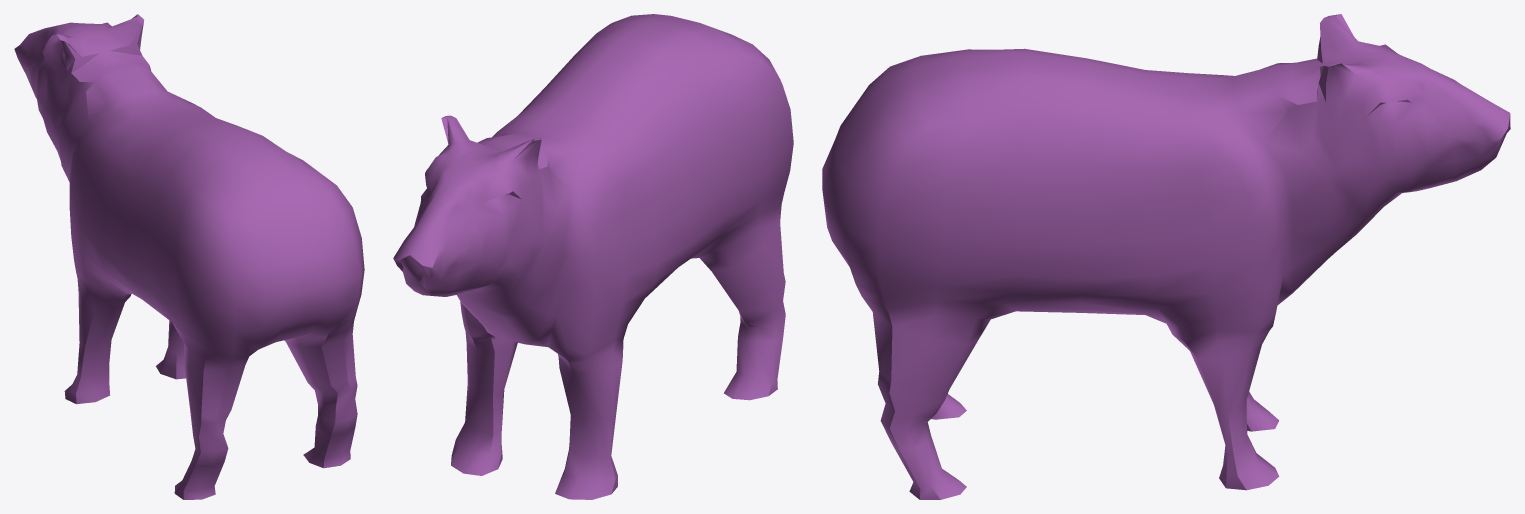
The picture shows the model from 3 angles, left to right: view 1: azimuth 30°, elevation 25°; view 2: azimuth 150°, elevation 25°; view 3: azimuth 270°, elevation 25°; orthographic projection. The views are drawn at different scales.
Visible parts, largest first — view 1: pCube1_blinn1_0; view 2: pCube1_blinn1_0; view 3: pCube1_blinn1_0.
Boxes of the visible parts, box(x1,y1,x2,y2) form: pCube1_blinn1_0: box(14, 14, 364, 499); pCube1_blinn1_0: box(393, 14, 793, 499); pCube1_blinn1_0: box(822, 14, 1510, 499).
Size of the model in its own units: 0.3497 by 0.6677 by 1.
